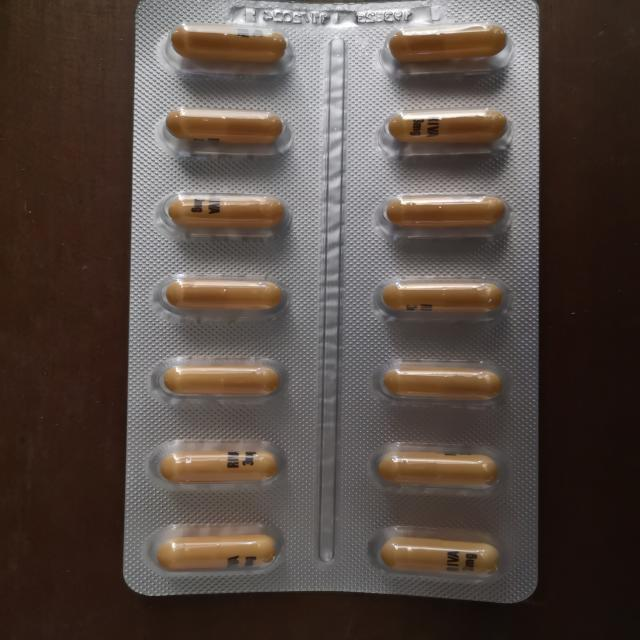Pill: (363, 263, 522, 331), (136, 516, 303, 578), (140, 432, 303, 495), (148, 345, 297, 411), (357, 523, 510, 587), (363, 348, 514, 412), (366, 97, 522, 158), (148, 95, 299, 158), (148, 18, 312, 76), (374, 179, 518, 242), (151, 184, 303, 243), (372, 432, 508, 494), (372, 14, 514, 71), (146, 266, 297, 319)
